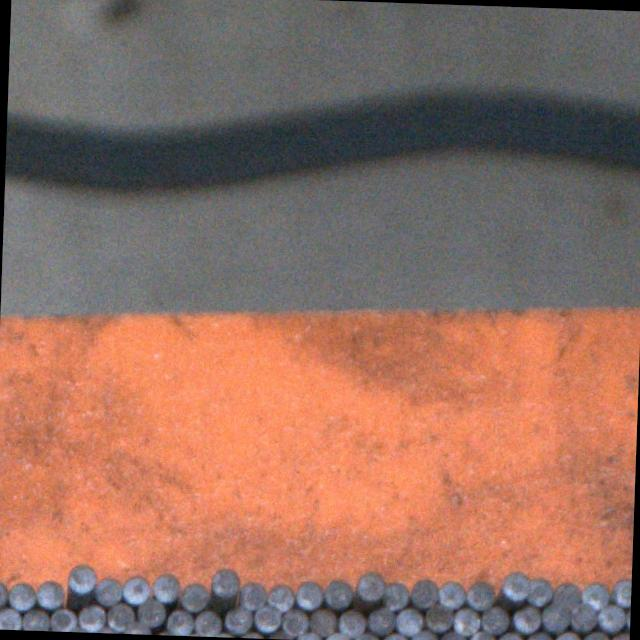tool: (68, 561, 98, 592), (36, 579, 66, 609), (294, 580, 324, 610), (356, 569, 386, 599), (324, 578, 354, 608), (152, 572, 182, 602), (465, 580, 495, 610), (501, 570, 531, 600), (238, 580, 268, 610), (212, 566, 242, 596), (540, 602, 570, 632), (409, 578, 438, 608), (393, 606, 422, 635), (122, 573, 150, 603), (580, 578, 608, 608), (94, 576, 122, 606), (181, 581, 209, 611), (554, 579, 582, 609), (426, 602, 454, 632), (510, 606, 540, 634), (366, 606, 394, 636), (8, 581, 36, 610), (436, 580, 464, 609), (382, 580, 410, 609), (450, 608, 479, 636), (108, 601, 136, 630), (138, 597, 166, 625), (254, 604, 282, 632), (79, 605, 107, 633), (308, 607, 336, 635), (480, 606, 508, 634), (336, 608, 364, 636), (598, 602, 626, 630), (193, 608, 221, 636), (267, 582, 294, 611), (280, 608, 307, 635), (166, 609, 193, 636), (570, 602, 596, 630), (528, 576, 554, 604), (225, 606, 252, 632), (610, 576, 631, 607), (49, 608, 76, 632), (21, 608, 49, 630), (0, 607, 22, 630), (124, 620, 150, 634), (410, 629, 437, 640), (523, 630, 552, 640), (468, 630, 497, 640), (581, 630, 610, 640), (324, 630, 352, 640), (553, 630, 581, 640), (438, 631, 466, 640), (380, 631, 406, 640), (0, 579, 8, 608), (496, 632, 524, 640), (351, 632, 379, 640), (294, 632, 322, 640), (266, 631, 292, 639), (92, 626, 119, 633), (610, 631, 629, 640), (238, 632, 266, 638), (210, 632, 238, 638), (624, 604, 630, 630), (70, 625, 92, 632)
